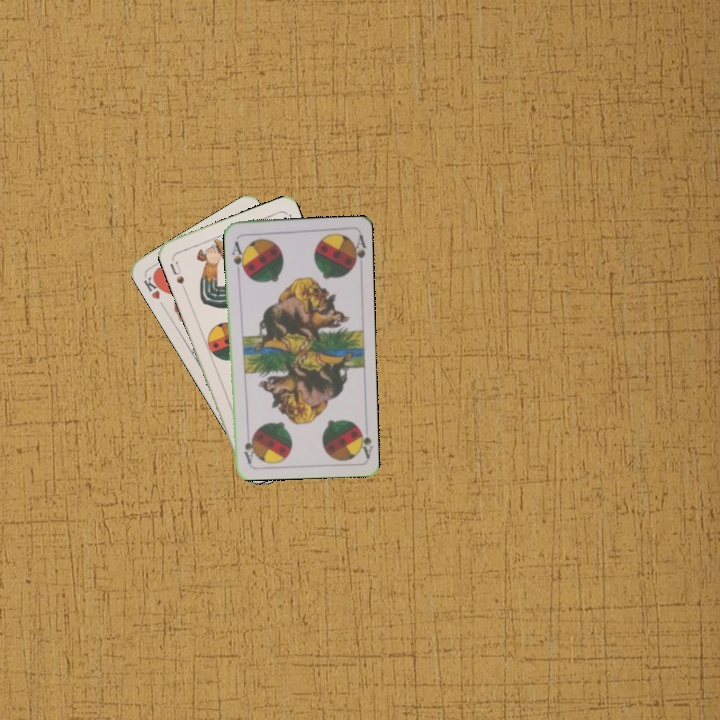HK: (140, 271, 167, 302)
SA: (353, 421, 374, 460), (227, 237, 248, 275)
SU: (165, 254, 188, 293)
